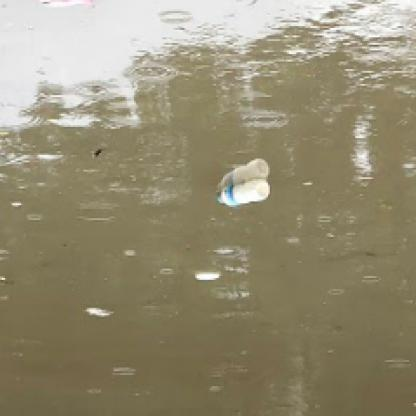Plastic: (214, 180, 270, 206)
